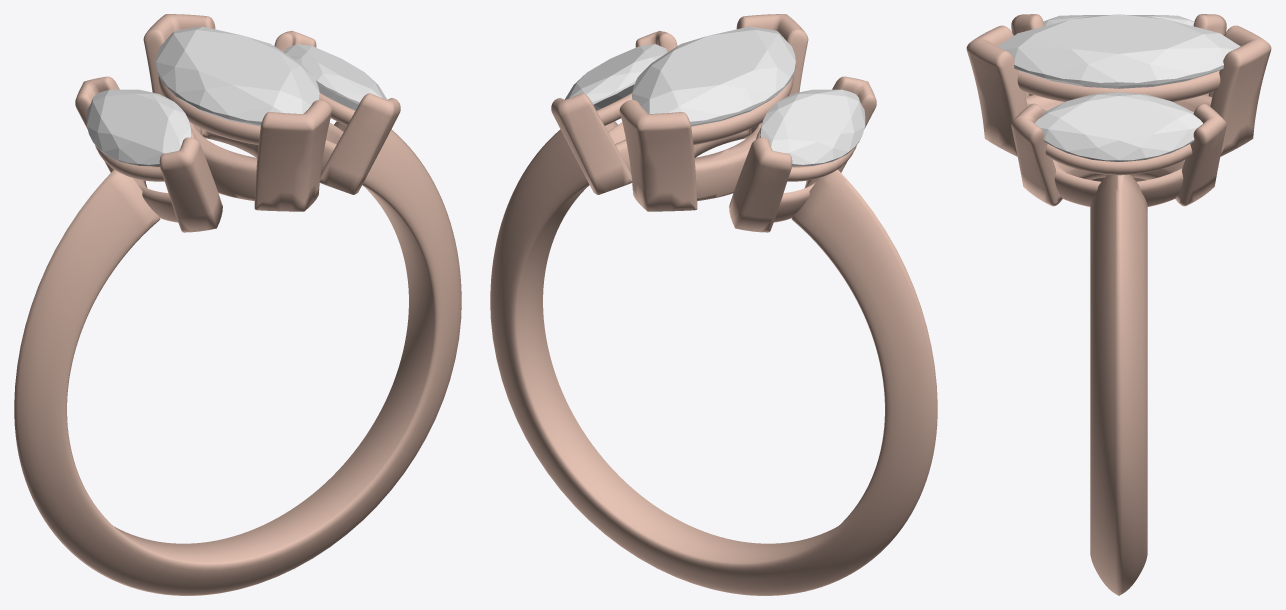
Rendered from diamond-marquise-rosegold-protectededges2prongs-knifeedge-3stone.glb.
The picture shows the model from 3 angles, left to right: view 1: azimuth 30°, elevation 25°; view 2: azimuth 150°, elevation 25°; view 3: azimuth 270°, elevation 25°; orthographic projection.
Parts seen in each view (by area): view 1: metal, stone, side.001, side; view 2: metal, stone, side.001, side; view 3: metal, stone, side, side.001.
Boxes of the visible parts, left/top/right/bottom form: metal: left=14, top=14, right=461, bottom=595; stone: left=156, top=26, right=319, bottom=126; side.001: left=86, top=89, right=191, bottom=165; side: left=284, top=44, right=387, bottom=110; metal: left=490, top=14, right=937, bottom=595; stone: left=632, top=26, right=795, bottom=126; side.001: left=760, top=89, right=865, bottom=165; side: left=564, top=44, right=667, bottom=110; metal: left=966, top=14, right=1271, bottom=595; stone: left=997, top=14, right=1240, bottom=88; side: left=1035, top=92, right=1202, bottom=161; side.001: left=1043, top=15, right=1194, bottom=26.
Size of the model in its own units: 20.1 by 22.73 by 11.69.
